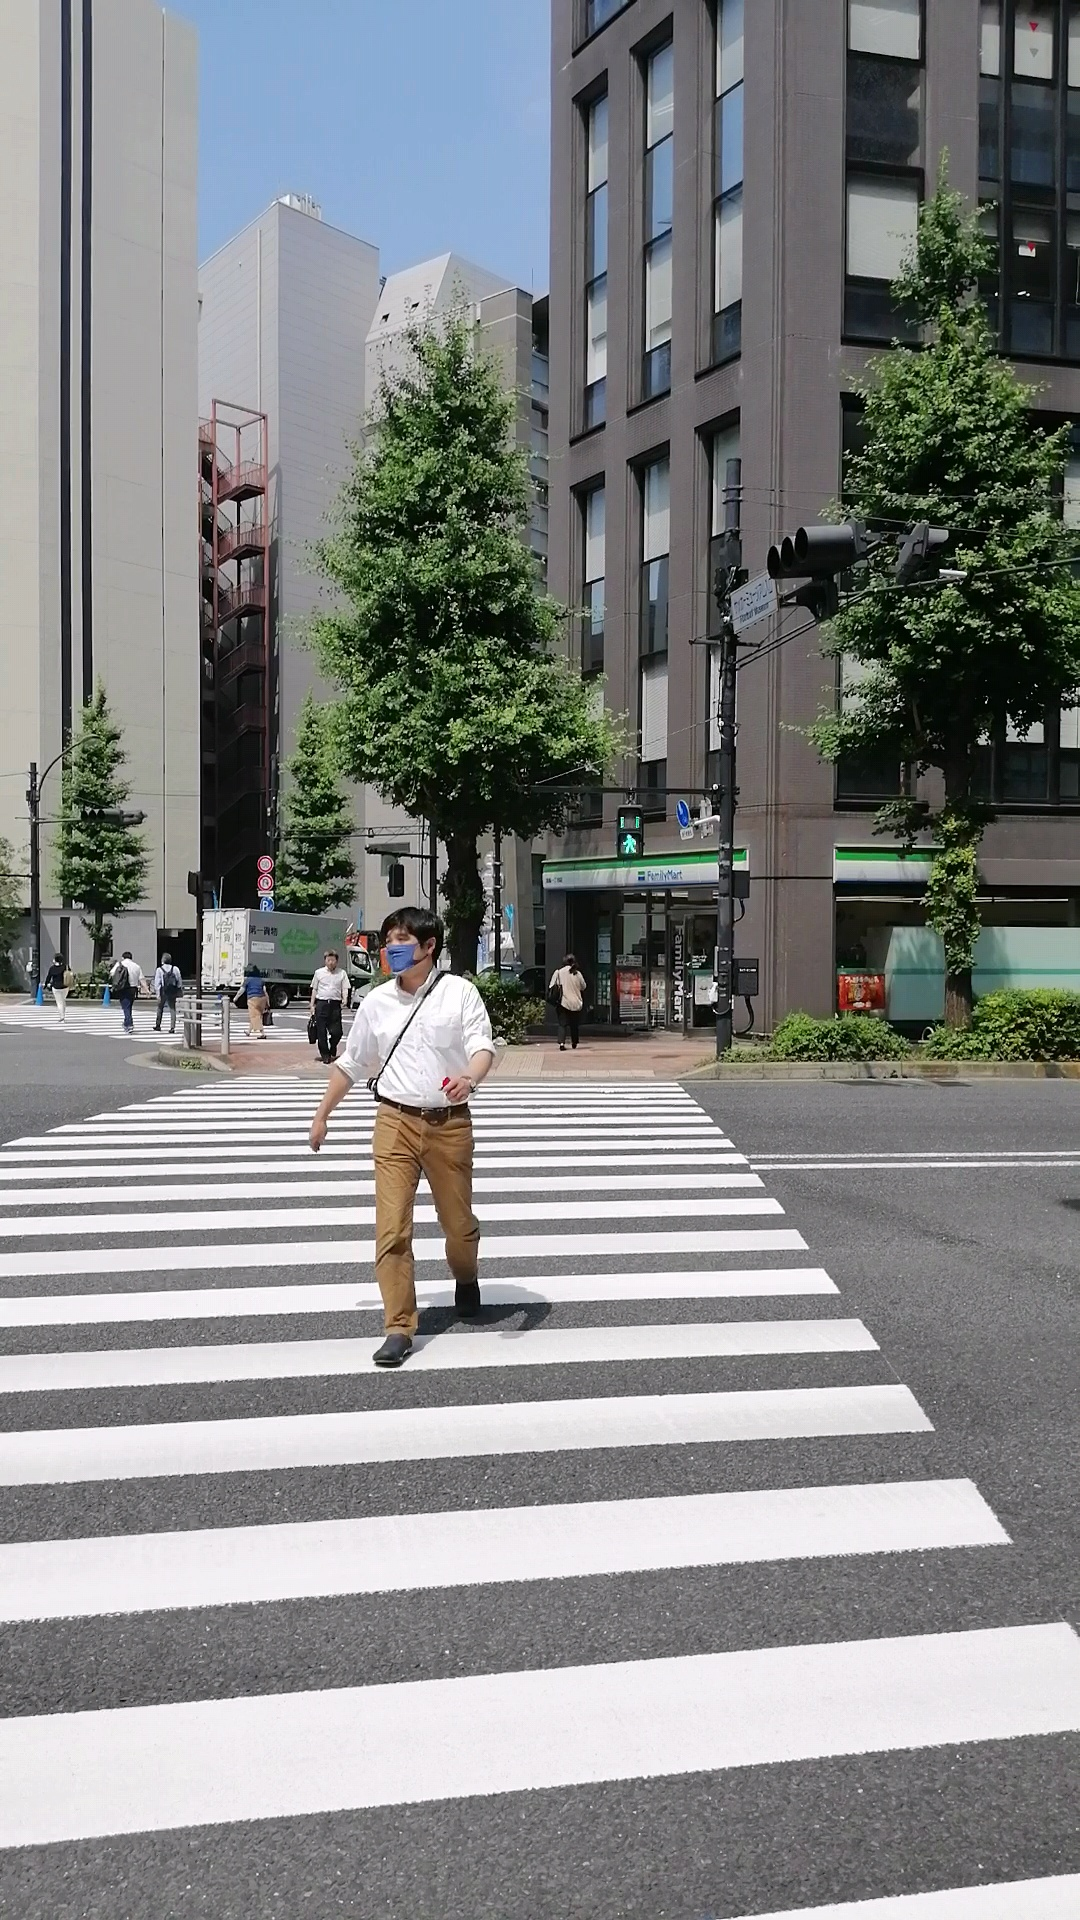green: (615, 803, 645, 858)
